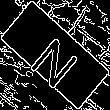N_NE: (25, 23, 85, 87)
